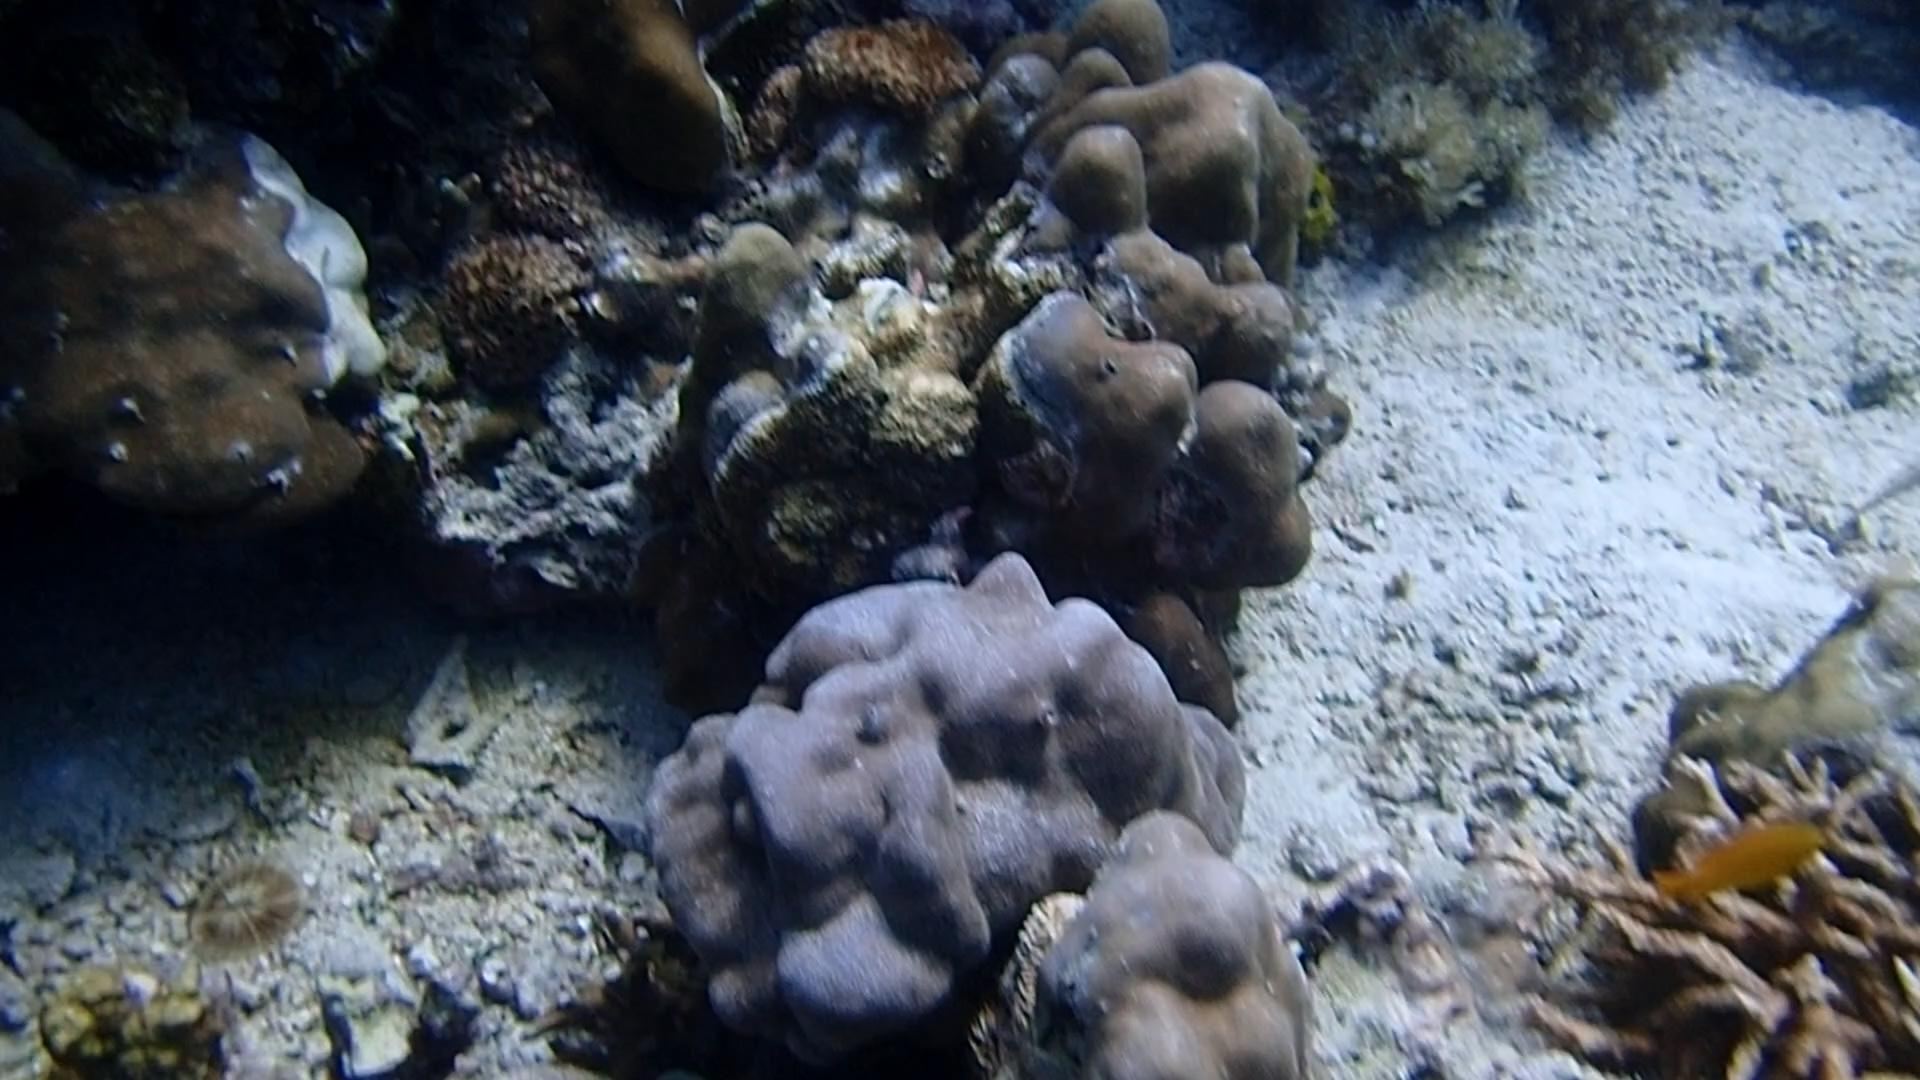Yellow Fish: (1640, 812, 1842, 919)
